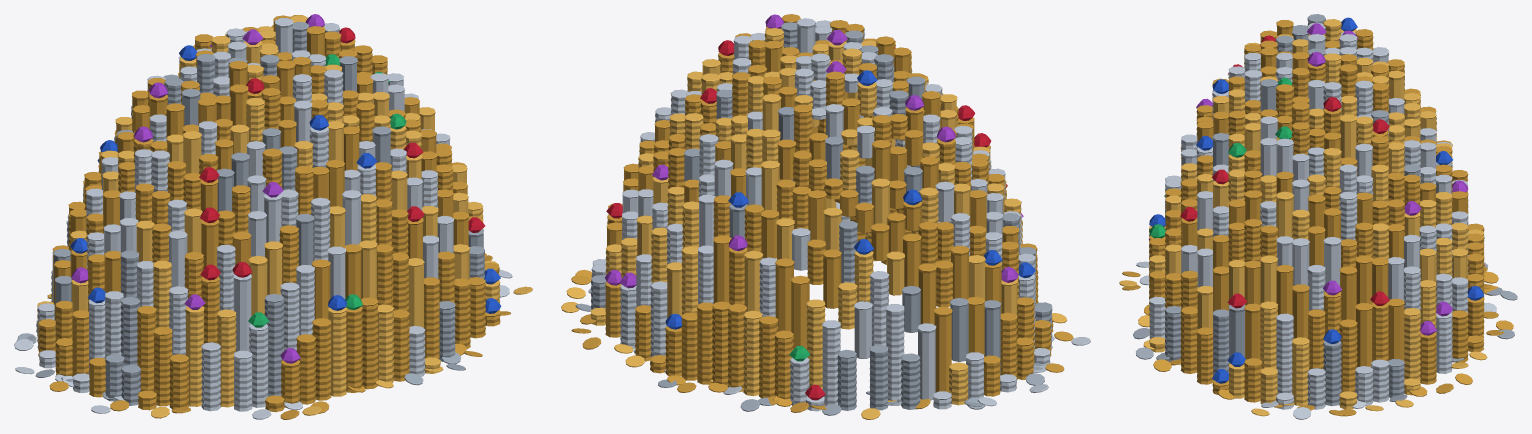
File: PileMedium_Large.fbx
3 renders of one model, left to right at view 1: azimuth 30°, elevation 25°; view 2: azimuth 150°, elevation 25°; view 3: azimuth 270°, elevation 25°, orthographic. The views are drawn at different scales.
Parts seen in each view (by area): view 1: PileMedium_Large; view 2: PileMedium_Large; view 3: PileMedium_Large.
Part boxes in pixels (x1,y1,x2,y2): PileMedium_Large: (14,14,532,419); PileMedium_Large: (561,14,1090,419); PileMedium_Large: (1119,14,1517,419).
Size of the model in its own units: 194 by 118 by 151.
